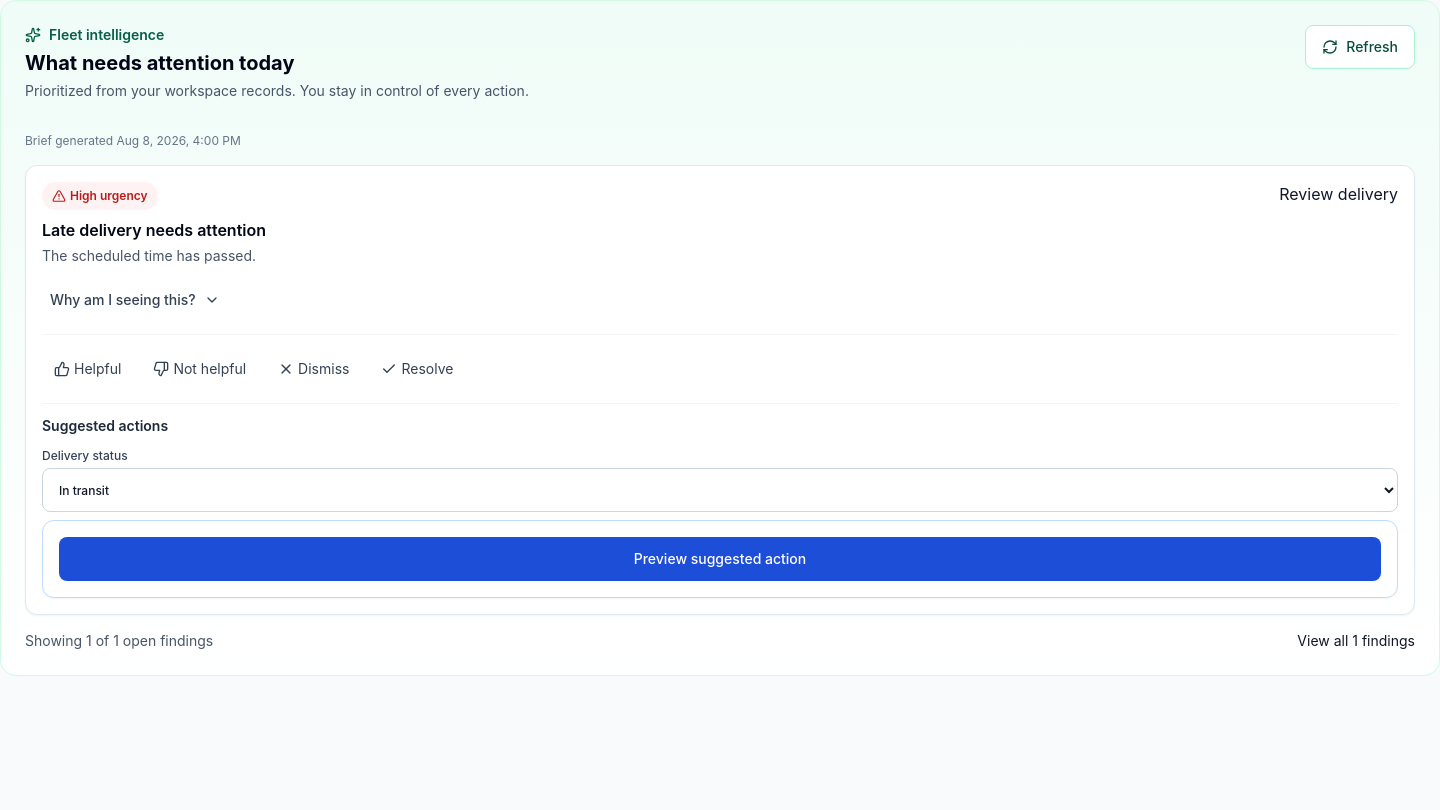
Test: IntelligenceBrief › does not announce refresh success when the follow-up brief load fails
Expected: the heading "Late delivery needs attention" is shown, [42, 218, 266, 242]
Click the button "Refresh" at (1360, 47), box [1305, 25, 1415, 69]
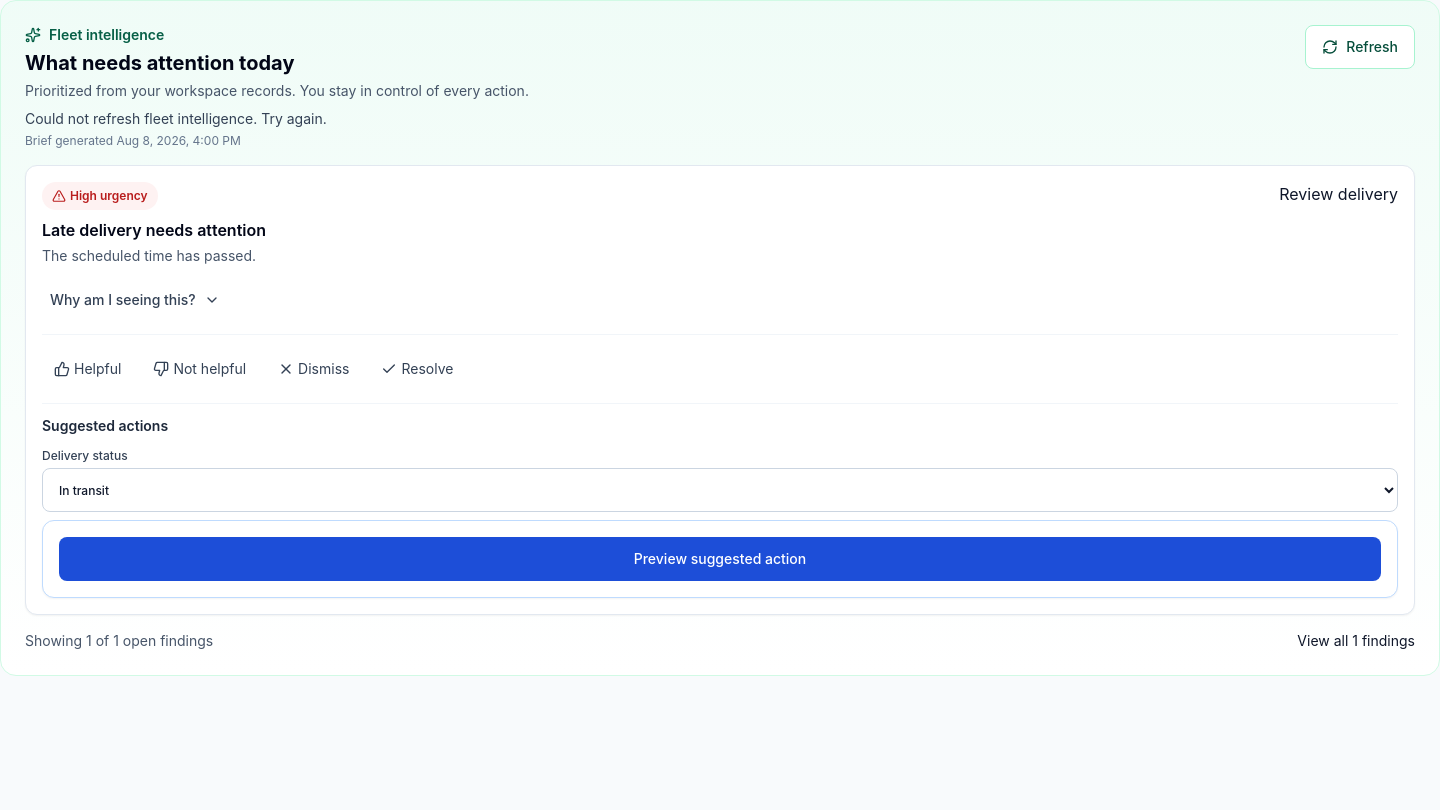
Expected: the heading "Late delivery needs attention" is shown, [42, 218, 266, 242]
Now the text "Could not refresh fleet intelligence. Try again." is shown, box [25, 110, 327, 127]
